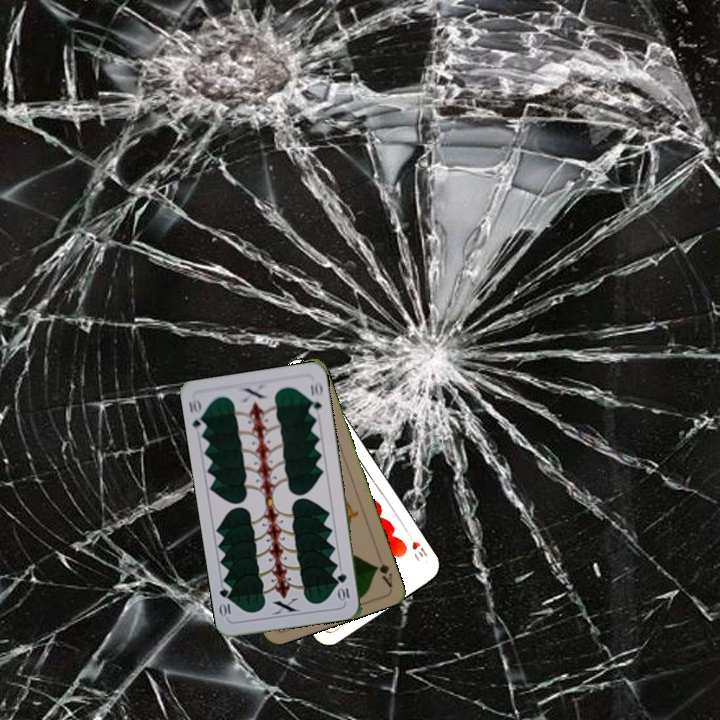G10: (185, 394, 209, 434), (333, 569, 352, 603)
GA: (371, 550, 395, 589)
H10: (403, 528, 430, 565)
